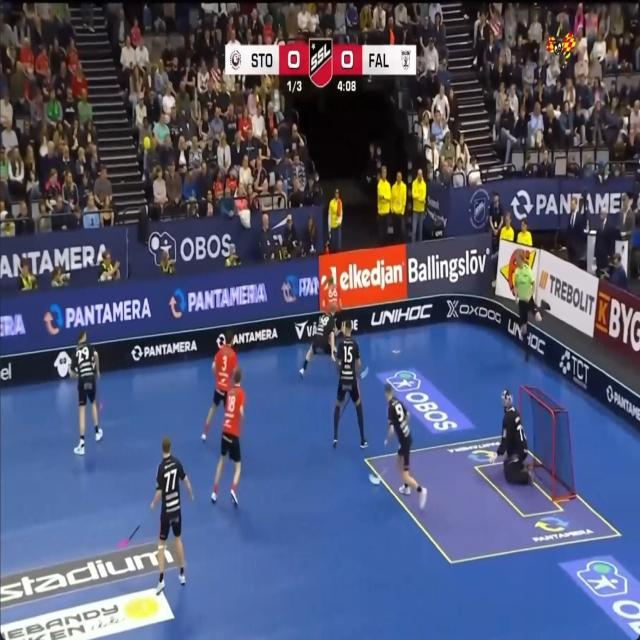player: (150, 436, 193, 593), (384, 383, 426, 509), (211, 368, 245, 506), (333, 320, 368, 448), (70, 331, 103, 455), (491, 390, 532, 484), (201, 331, 236, 441), (512, 249, 541, 360), (300, 303, 338, 377), (320, 276, 339, 312), (540, 301, 550, 309)
stick: (117, 525, 140, 547)
